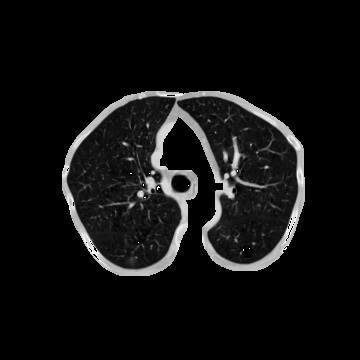PN: (127, 256, 135, 264)
